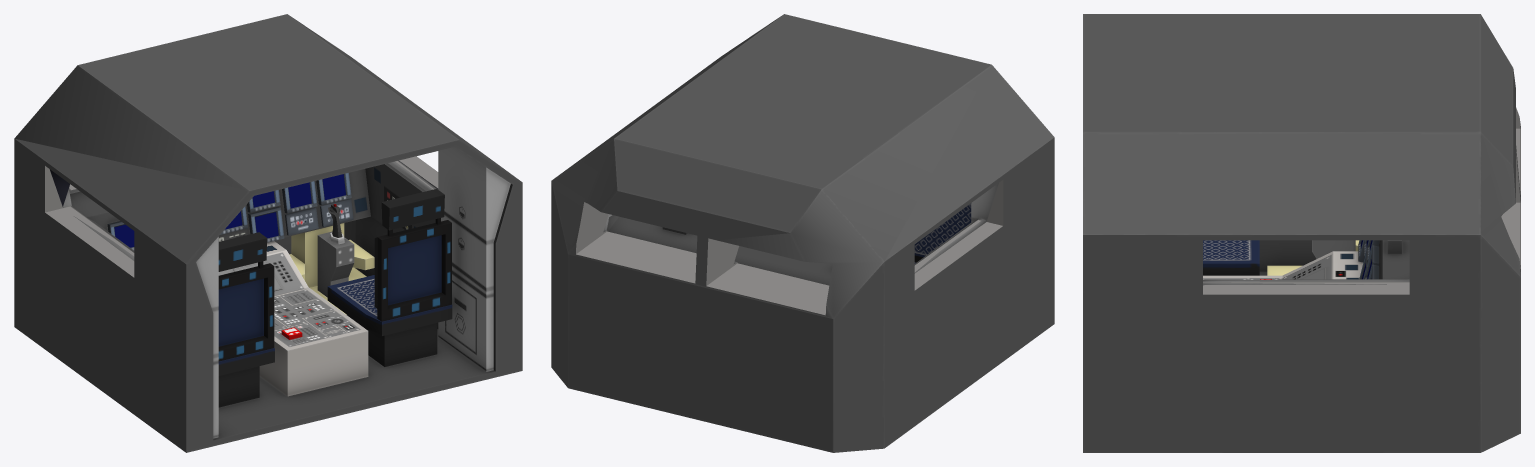
File: AssetCokpit.glb
3 renders of one model, left to right at view 1: azimuth 30°, elevation 25°; view 2: azimuth 150°, elevation 25°; view 3: azimuth 270°, elevation 25°, orthographic. The views are drawn at different scales.
Parts seen in each view (by area): view 1: CockpitControlCenter_Mesh; view 2: CockpitControlCenter_Mesh; view 3: CockpitControlCenter_Mesh.
Boxes of the visible parts, box(x1,y1,x2,y2) form: CockpitControlCenter_Mesh: box(14, 14, 522, 452); CockpitControlCenter_Mesh: box(551, 14, 1054, 452); CockpitControlCenter_Mesh: box(1083, 14, 1520, 452).
Size of the model in its own units: 11.93 by 8.35 by 11.63.
Materials: 1 (1 with a texture image).
